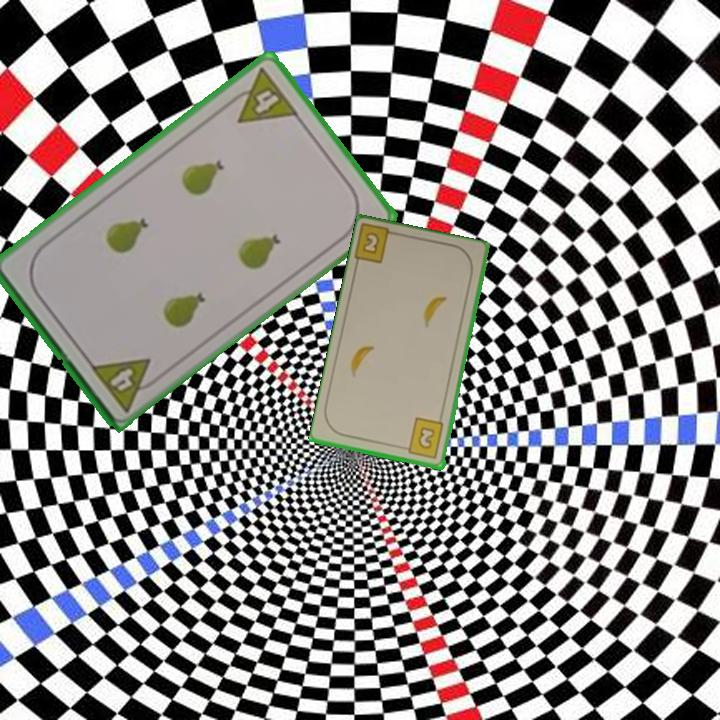2b: (352, 222, 403, 267), (399, 415, 447, 462)
4p: (221, 64, 302, 126), (86, 353, 164, 415)
